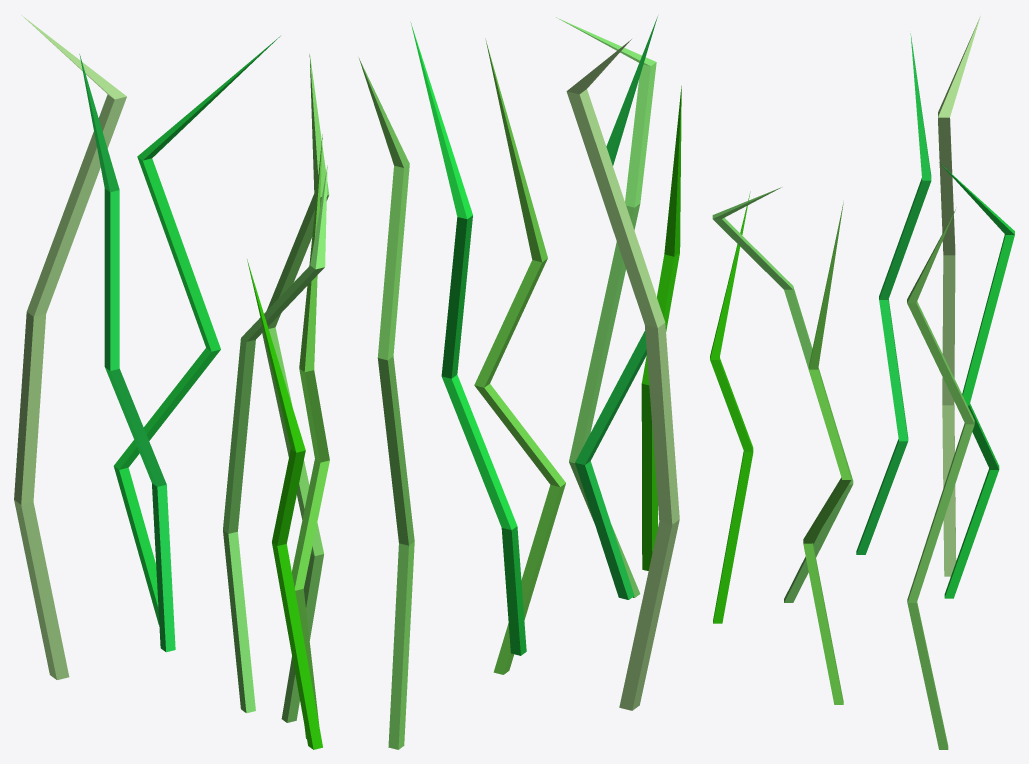
Rendered from grass 1.fbx.
3 views of the same model, side by side, from view 1: azimuth 30°, elevation 25°; view 2: azimuth 150°, elevation 25°; view 3: azimuth 270°, elevation 25° (orthographic). The views are drawn at different scales.
Parts seen in each view (by area): view 1: Cube, Cube.004, Cube.002, Cube.001, Cube.003, Cube.006, Cube.005; view 2: Cube, Cube.005, Cube.001, Cube.006, Cube.002, Cube.004, Cube.003; view 3: Cube, Cube.005, Cube.004, Cube.006, Cube.001, Cube.003, Cube.002.
Boxes of the visible parts, x1=… form: Cube: x1=14, y1=15, x2=126, y2=679; Cube.004: x1=79, y1=54, x2=175, y2=652; Cube.002: x1=223, y1=165, x2=327, y2=713; Cube.001: x1=113, y1=36, x2=280, y2=624; Cube.003: x1=247, y1=259, x2=322, y2=749; Cube.006: x1=292, y1=134, x2=329, y2=738; Cube.005: x1=262, y1=53, x2=329, y2=722; Cube: x1=566, y1=39, x2=679, y2=710; Cube.005: x1=358, y1=57, x2=414, y2=749; Cube.001: x1=410, y1=22, x2=526, y2=655; Cube.006: x1=474, y1=38, x2=565, y2=674; Cube.002: x1=556, y1=17, x2=656, y2=597; Cube.004: x1=575, y1=16, x2=657, y2=599; Cube.003: x1=641, y1=86, x2=681, y2=570; Cube: x1=938, y1=16, x2=980, y2=576; Cube.005: x1=907, y1=207, x2=974, y2=749; Cube.004: x1=856, y1=33, x2=931, y2=554; Cube.006: x1=803, y1=202, x2=851, y2=704; Cube.001: x1=939, y1=162, x2=1014, y2=598; Cube.003: x1=710, y1=191, x2=753, y2=623; Cube.002: x1=712, y1=187, x2=853, y2=602.
Bounding box in the file's own units: 517 × 1248 × 545.
